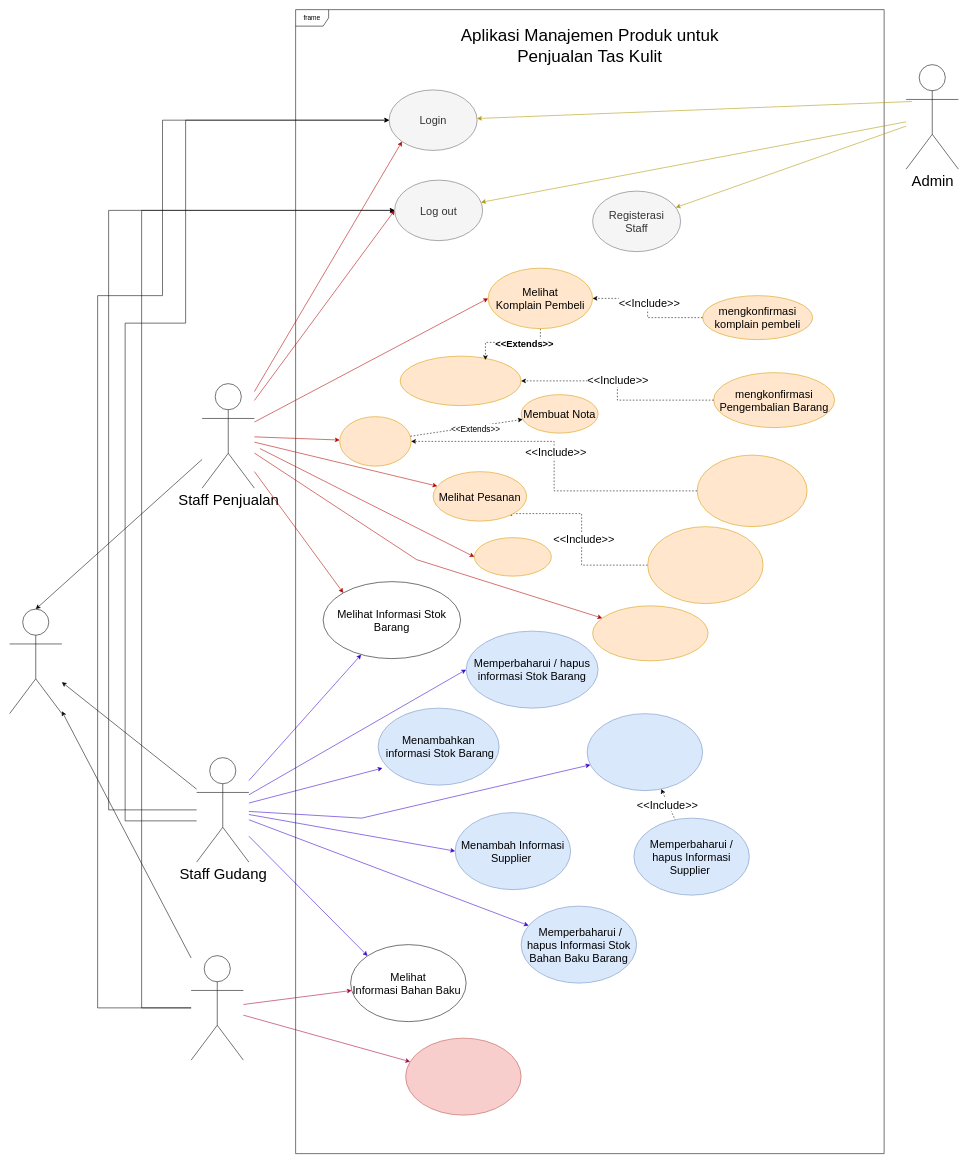
The diagram is 968 pixels wide and 1163 high, and some of its shapes have lost their labels. The centre of each missing label's shape, as x and y in pixels:
"Melihat Informasi Supplier" belongs at pixel 645 752.
"Melihat Nota" belongs at pixel 375 441.
"Melihat status Pengembalian Barang" belongs at pixel 460 381.
"Membuat permintaan bahan baku" belongs at pixel 463 1076.
"Membuat permintaan barang tas kulit" belongs at pixel 650 633.
"membuat Pesanan" belongs at pixel 512 556.
"Memperbaharui / hapus Informasi Nota" belongs at pixel 752 491.
"Memperbaharui / hapus Informasi Pesanan" belongs at pixel 705 565.
"Staff" belongs at pixel 35 661.
"Staff Produksi Barang" belongs at pixel 217 1007.
